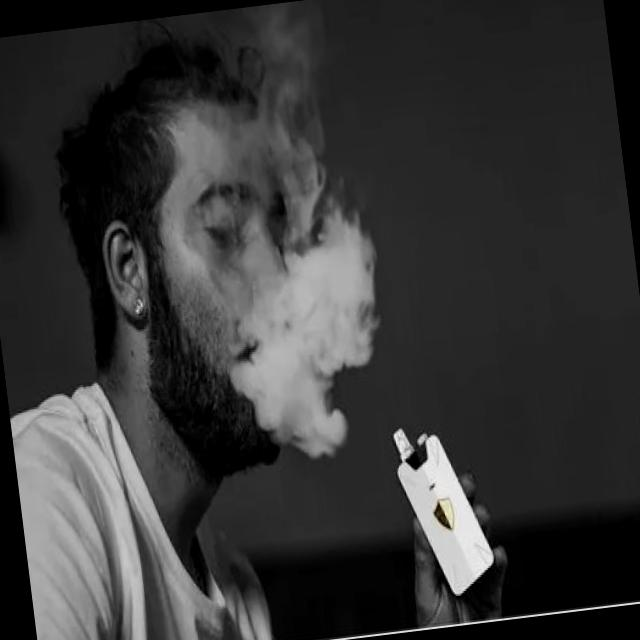cigarette: (382, 408, 505, 604)
